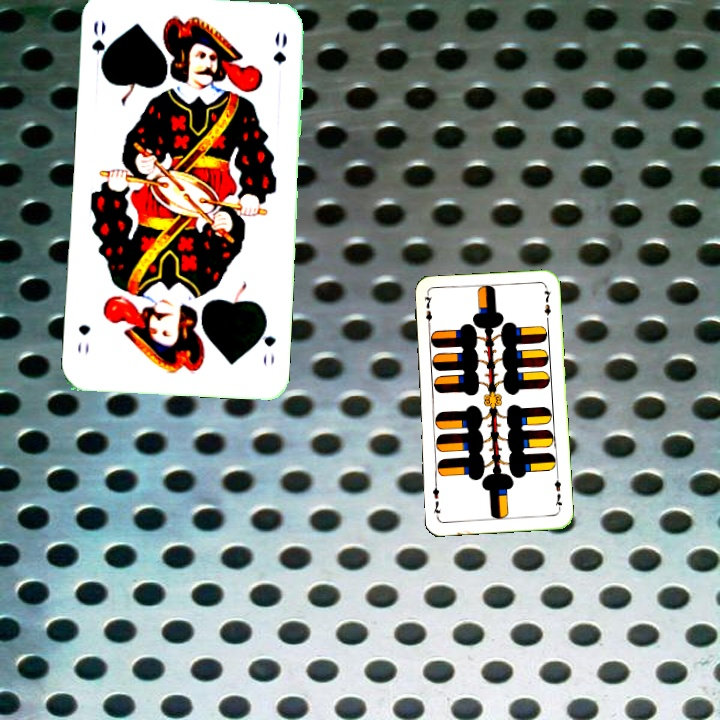E7: (420, 291, 435, 332), (551, 472, 565, 513)
GO: (88, 16, 111, 75), (255, 315, 279, 368)
